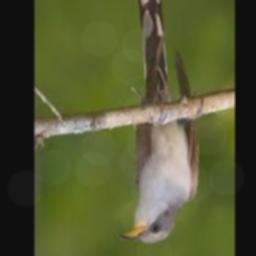Cuckoo: (118, 0, 200, 244)
